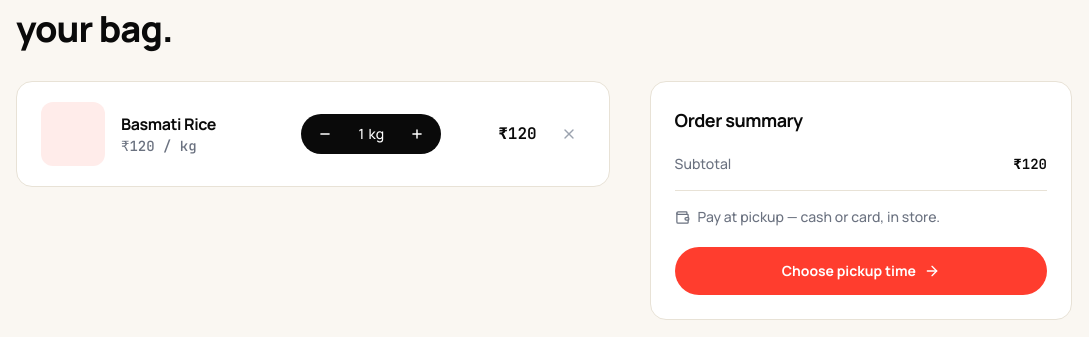
Test: Cart page › updates the total when quantity changes
Expected: the text "₹120" next to "1 kg" is shown, [498,123,537,144]
Click the button named "increase quantity". click: click(417, 134)
box: [403,120,431,148]
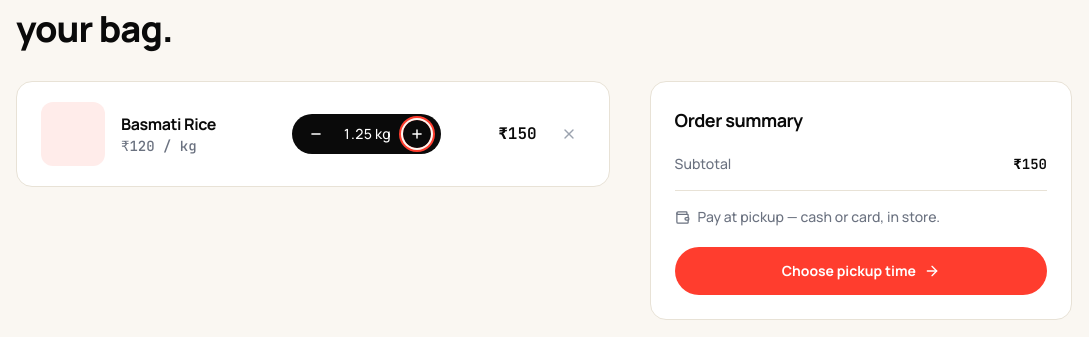
Result: the text "₹150" next to "1.25 kg" is shown at [498,123,537,144]
